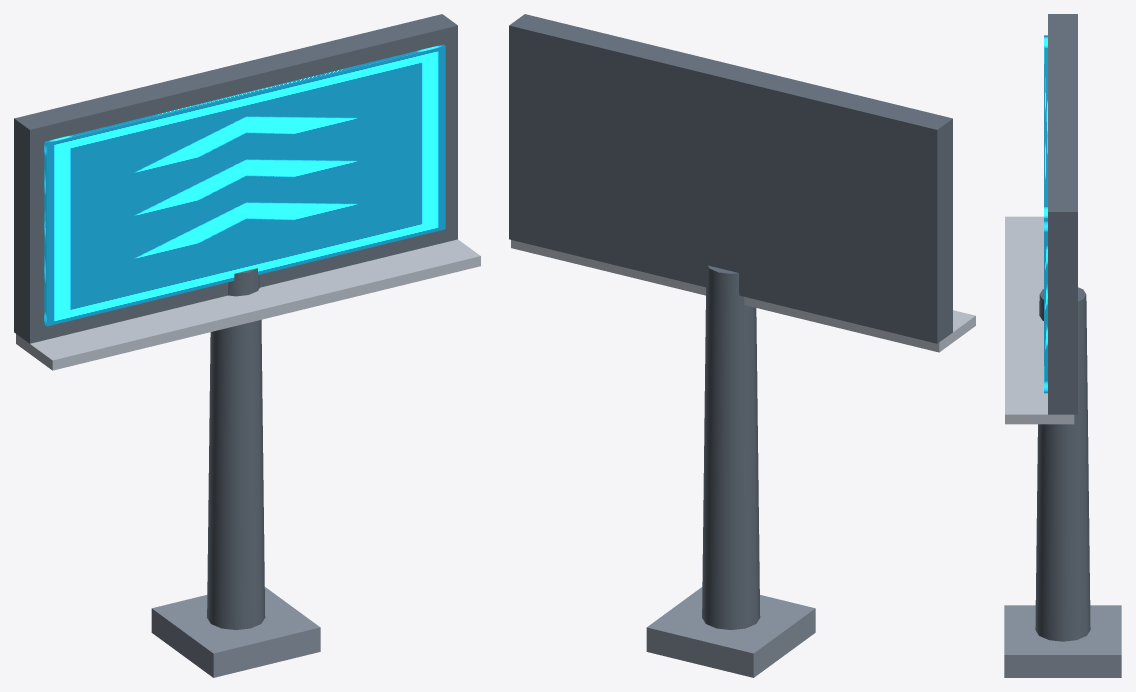
The model's file is billboard_urban_frame.glb.
3 renders of one model, left to right at view 1: azimuth 30°, elevation 25°; view 2: azimuth 150°, elevation 25°; view 3: azimuth 270°, elevation 25°, orthographic. The views are drawn at different scales.
Visible parts, largest first — view 1: billboard_urban_frame; view 2: billboard_urban_frame; view 3: billboard_urban_frame.
Part boxes in pixels (<box>): billboard_urban_frame: <box>14,14,480,677</box>; billboard_urban_frame: <box>509,14,975,677</box>; billboard_urban_frame: <box>1004,14,1121,677</box>.
Size of the model in its own units: 4.4 by 5.6 by 1.1.
Materials: 4 (1 with a texture image).
